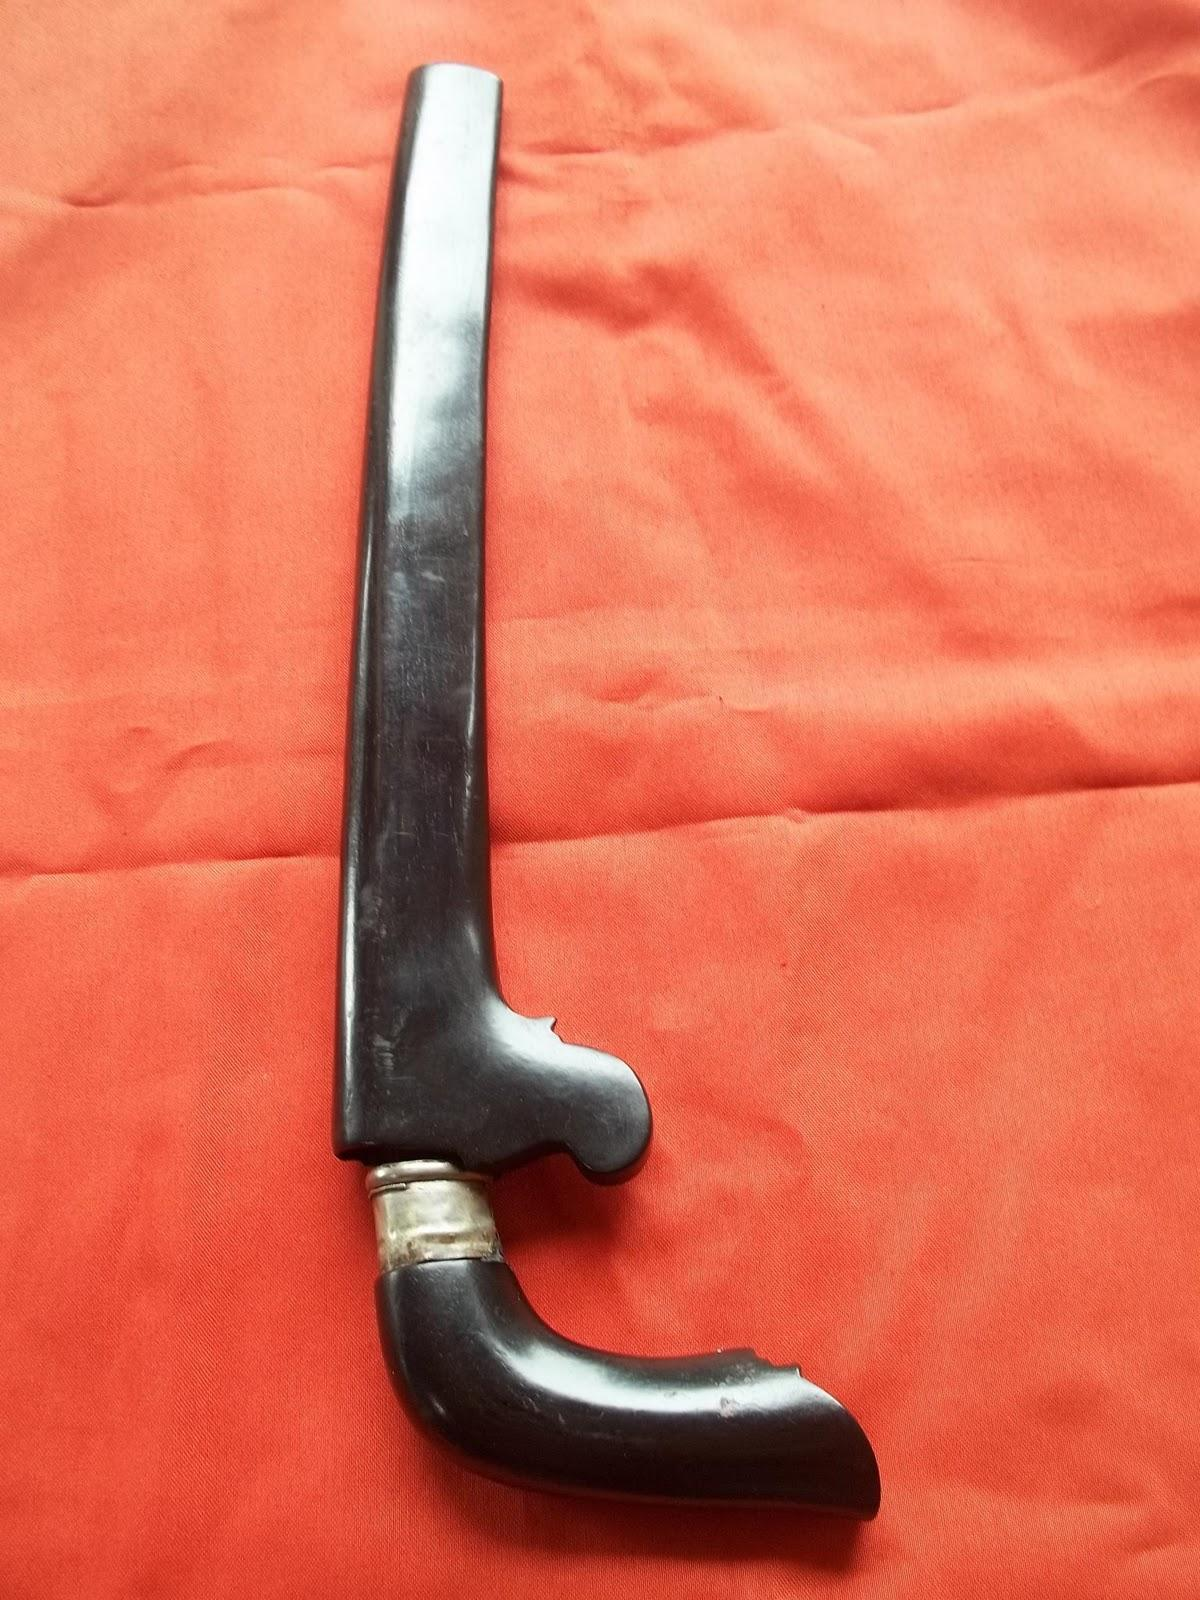facao: (333, 48, 872, 1503)
